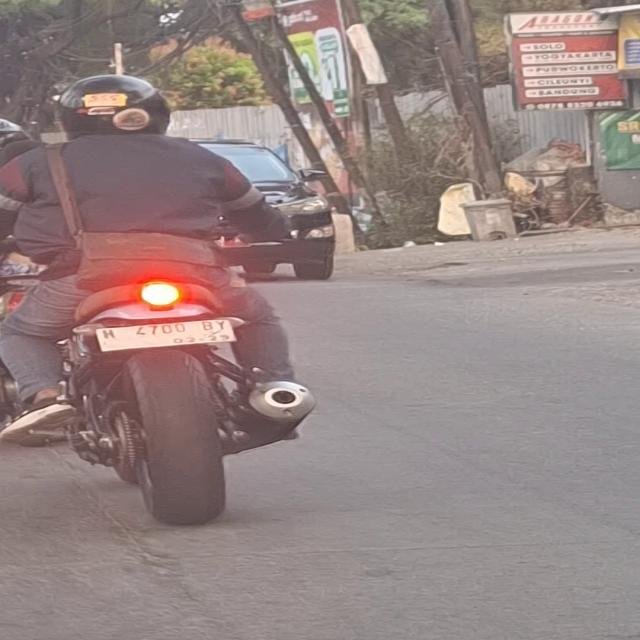WithHelmet: (0, 74, 301, 447), (0, 118, 52, 275)
